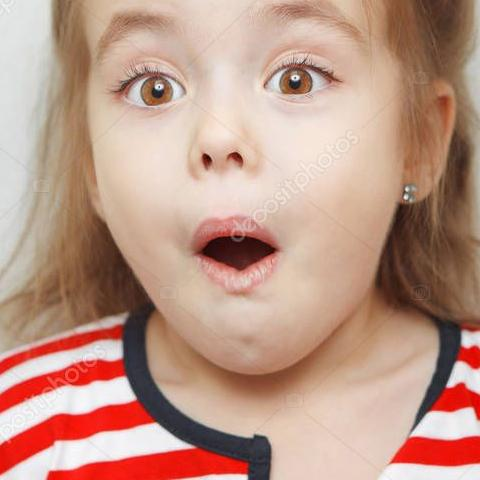opened: (72, 0, 396, 129)
